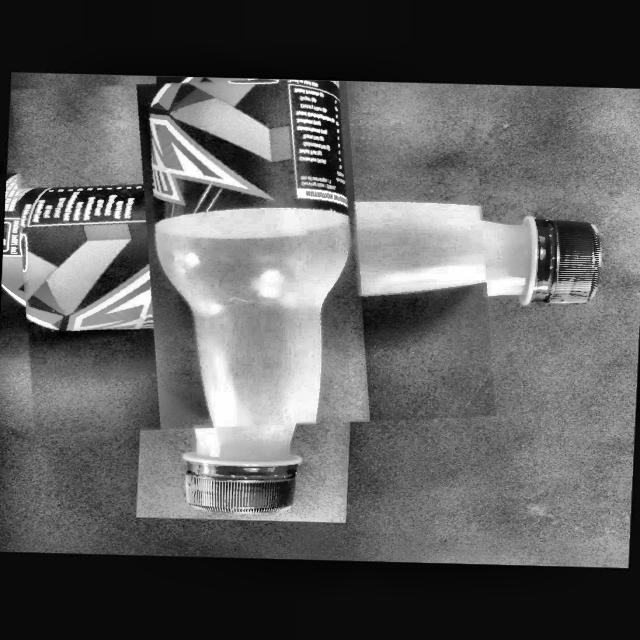Plastic-Bottle: (4, 72, 502, 439)
